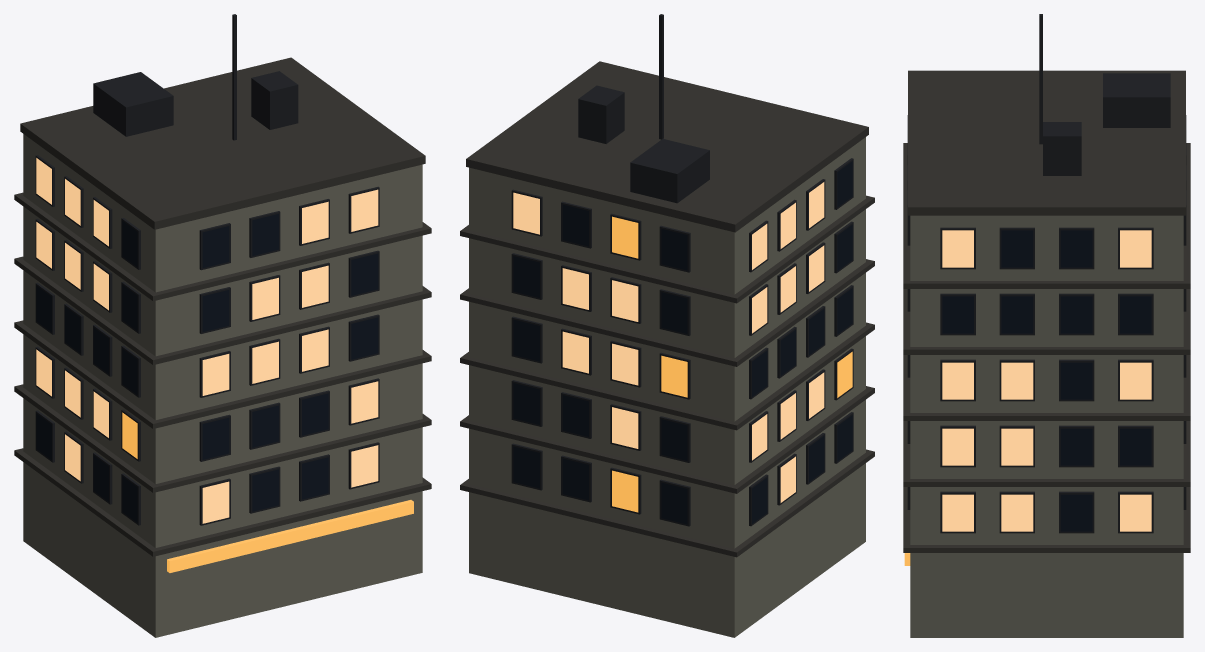
The model's file is block_low_a.glb.
3 renders of one model, left to right at view 1: azimuth 30°, elevation 25°; view 2: azimuth 150°, elevation 25°; view 3: azimuth 270°, elevation 25°, orthographic. The views are drawn at different scales.
Visible parts, largest first — view 1: block_low_a; view 2: block_low_a; view 3: block_low_a.
Boxes of the visible parts, left/top/right/bottom form: block_low_a: left=14, top=14, right=431, bottom=637; block_low_a: left=460, top=14, right=874, bottom=637; block_low_a: left=903, top=14, right=1190, bottom=637.
Bounding box in the file's own units: 14.6 × 27.14 × 12.6.
